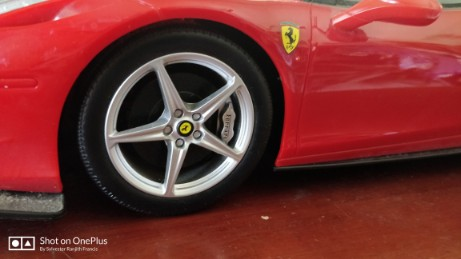unaligned_wheel: (70, 23, 290, 224)
